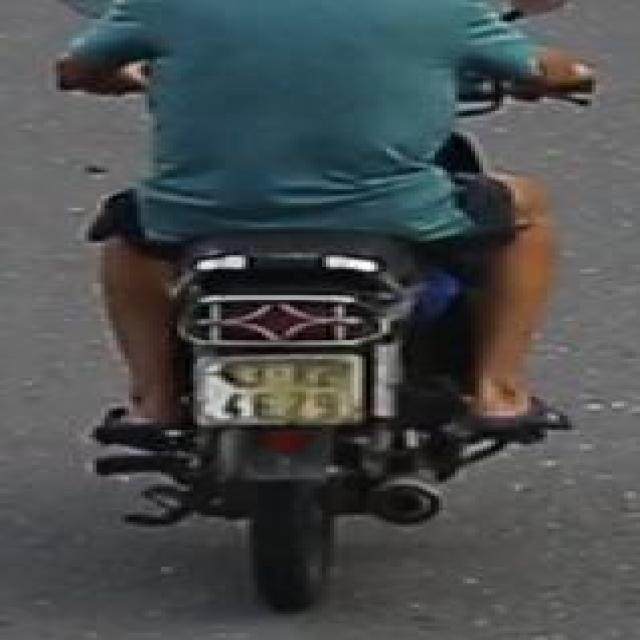LP: (181, 352, 370, 432)
